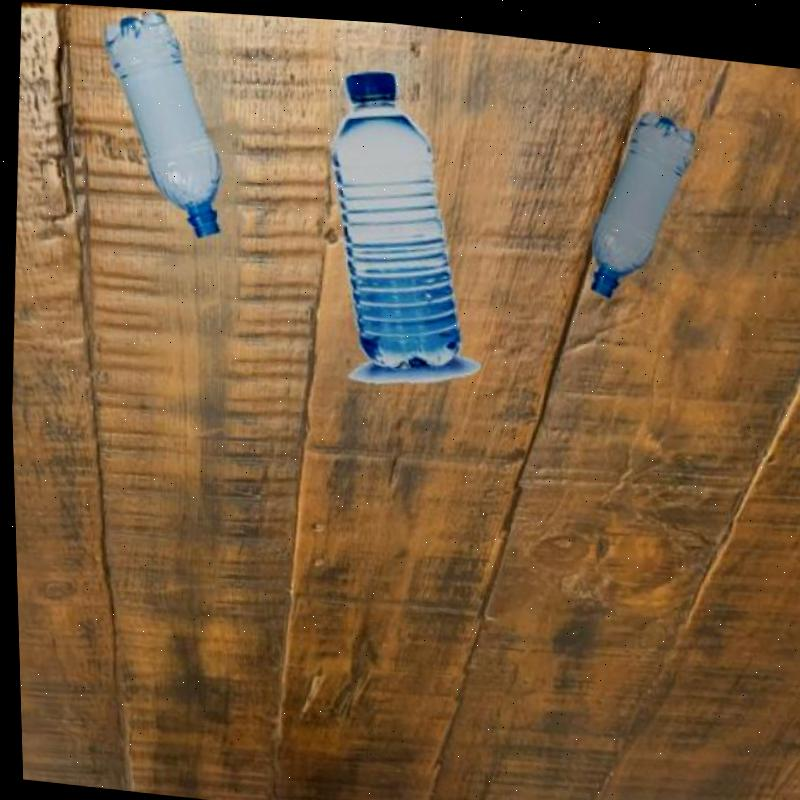botella: (315, 61, 470, 374), (91, 4, 228, 238), (575, 100, 700, 298)
